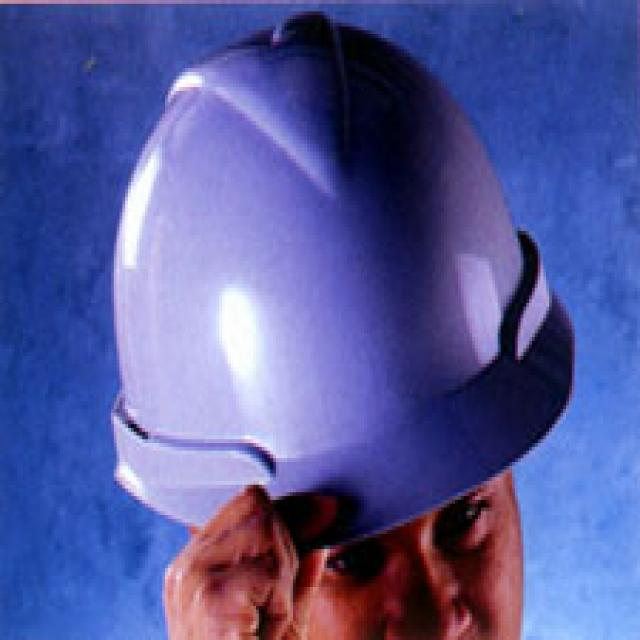Safety-Helmet: (85, 19, 546, 568)
